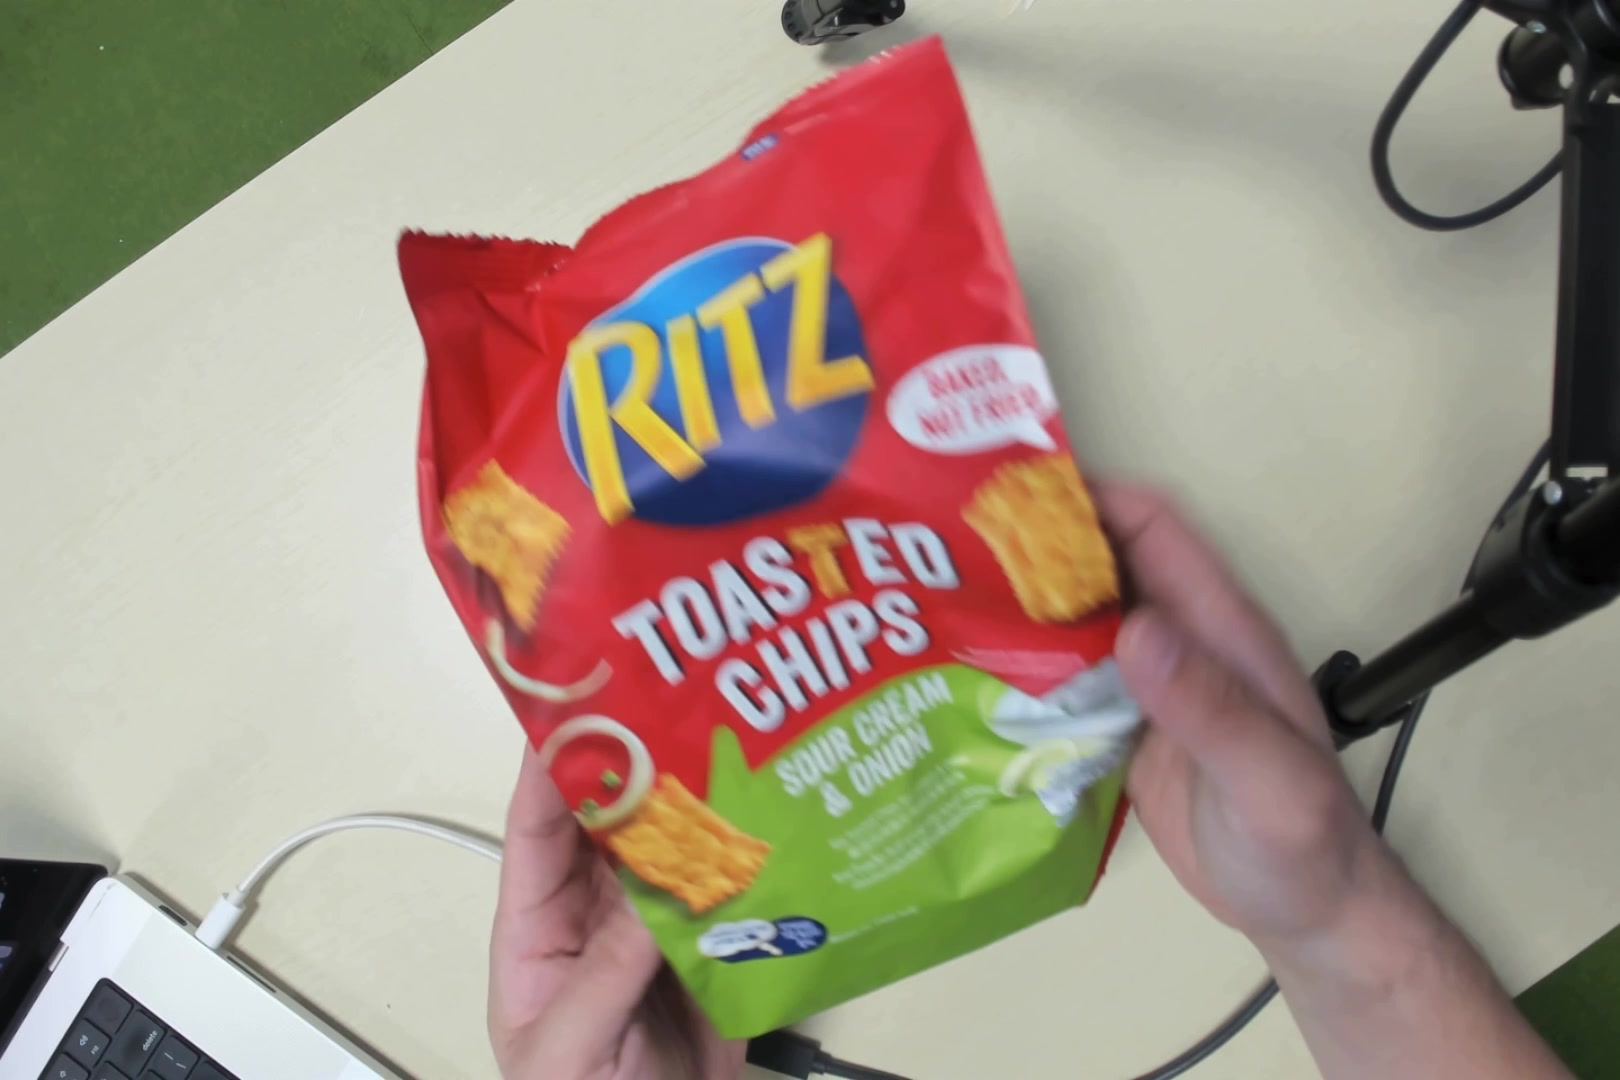BiscuitsCrackersCookies_200-299g_NonHalal_NonHealthy: (450, 194, 1100, 963)
